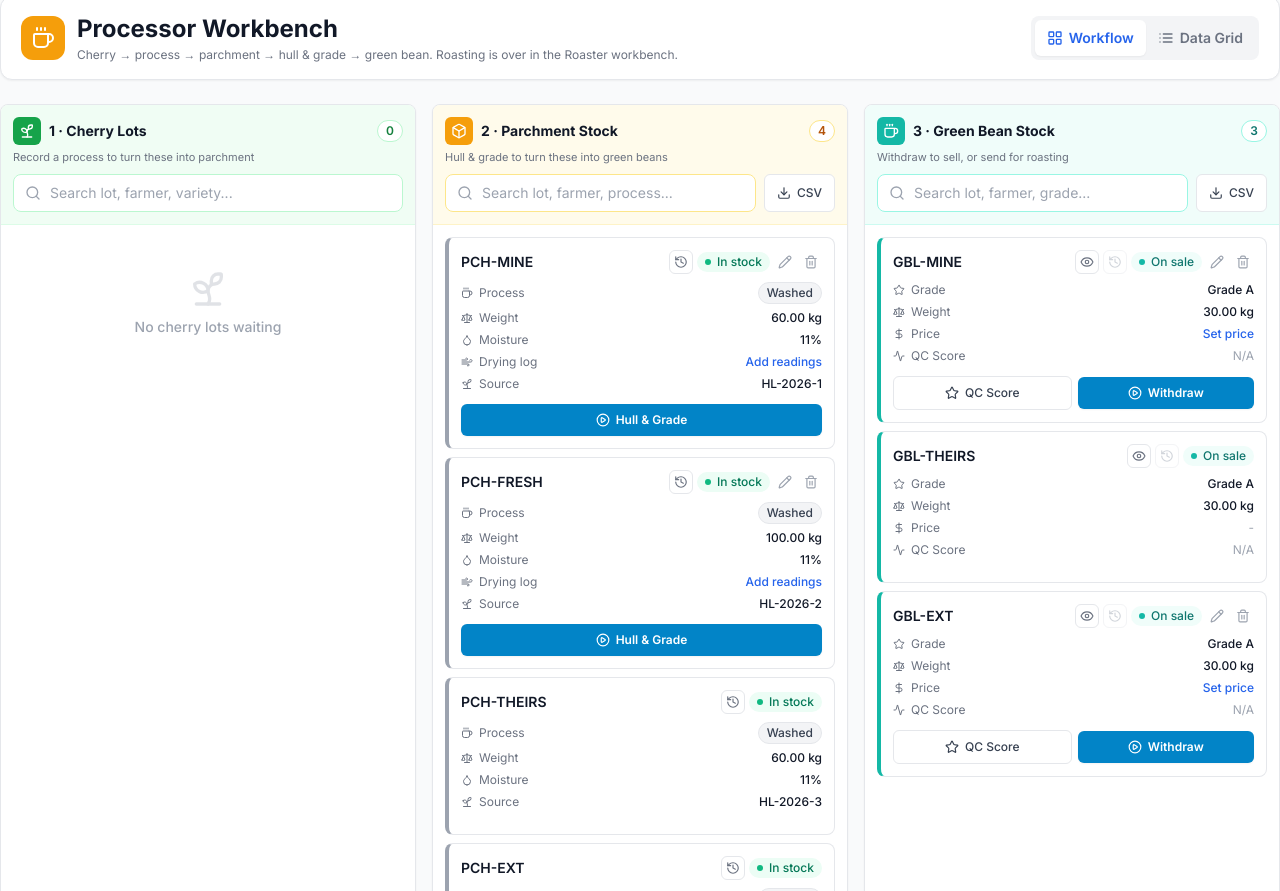
it: Workbench edit and delete (F24) › in Data Grid a Processor gets Edit and Delete on their own records only
Step 1. Click the button "Data Grid" → (1200, 38), box [1146,20,1255,56]
(page scrolled)
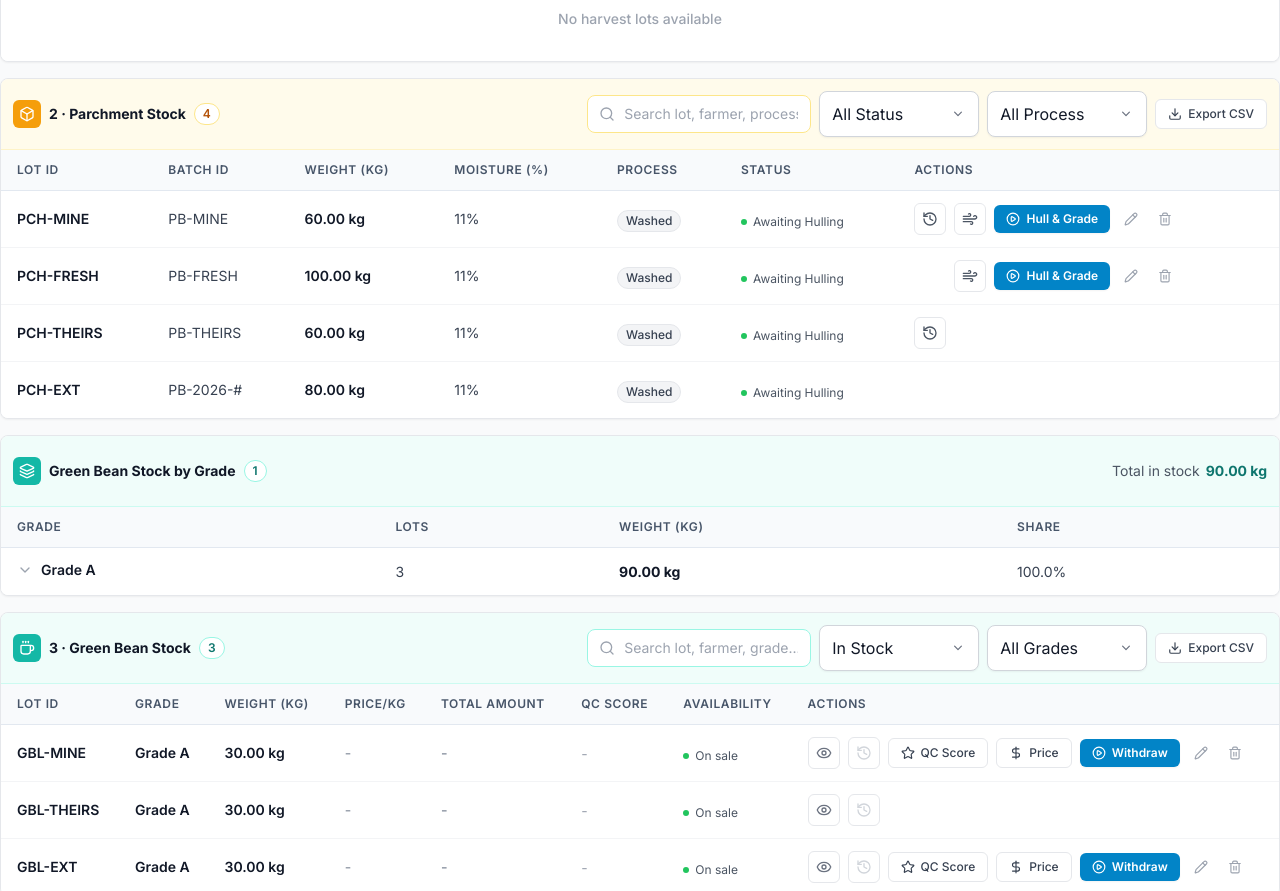
Expected: the button named "Edit parchment lot PCH-MINE" is shown, [1118,206,1144,232]
Expected: the button named "Delete parchment lot PCH-MINE" is shown, [1152,206,1178,232]
Expected: the button named "Edit parchment lot PCH-FRESH" is shown, [1118,263,1144,289]
